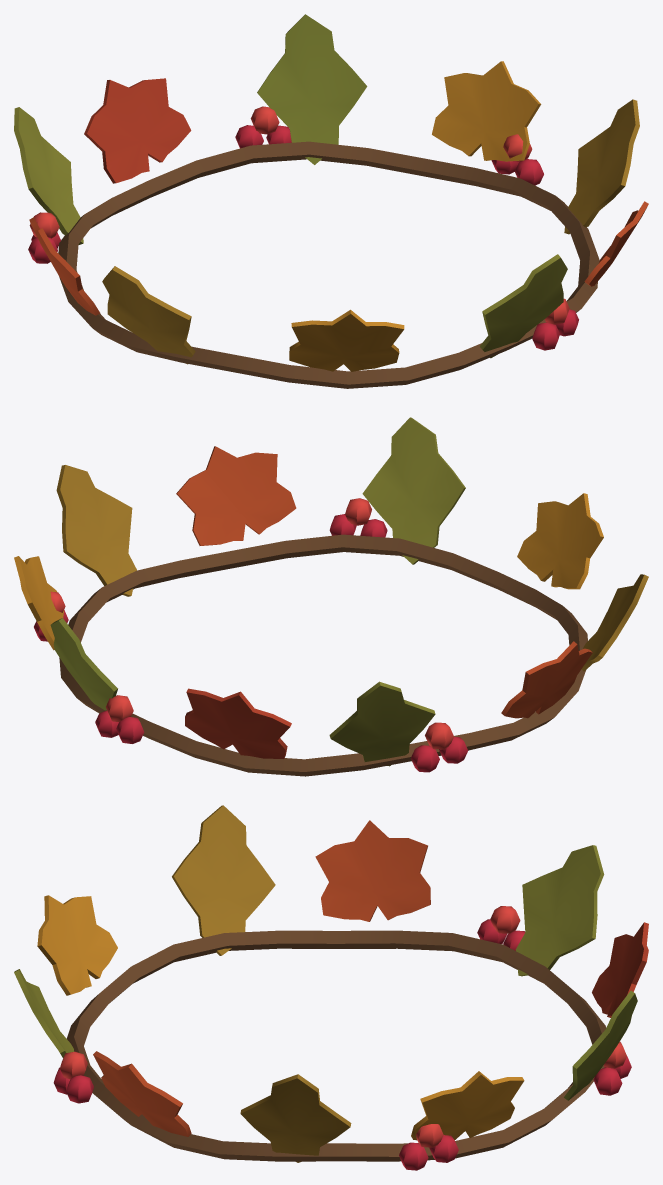
3 views of the same model, one above another, from view 1: azimuth 30°, elevation 25°; view 2: azimuth 150°, elevation 25°; view 3: azimuth 270°, elevation 25° (orthographic). The views are drawn at different scales.
Visible parts, largest first — view 1: h_leafcrown; view 2: h_leafcrown; view 3: h_leafcrown.
Boxes of the visible parts, x1,y1,x2,y2 form: h_leafcrown: (14, 14, 648, 388); h_leafcrown: (14, 417, 648, 776); h_leafcrown: (14, 805, 648, 1170).
Bounding box in the file's own units: 0.8613 × 0.189 × 0.8348.
